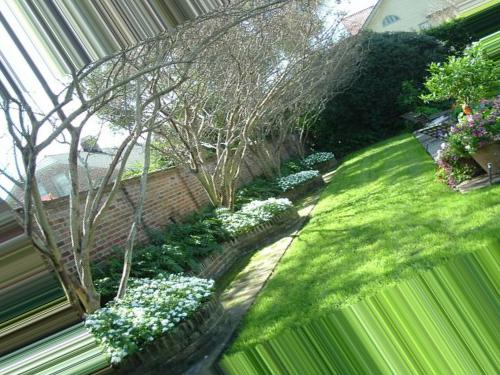patch: (235, 255, 269, 285), (228, 292, 243, 301)
